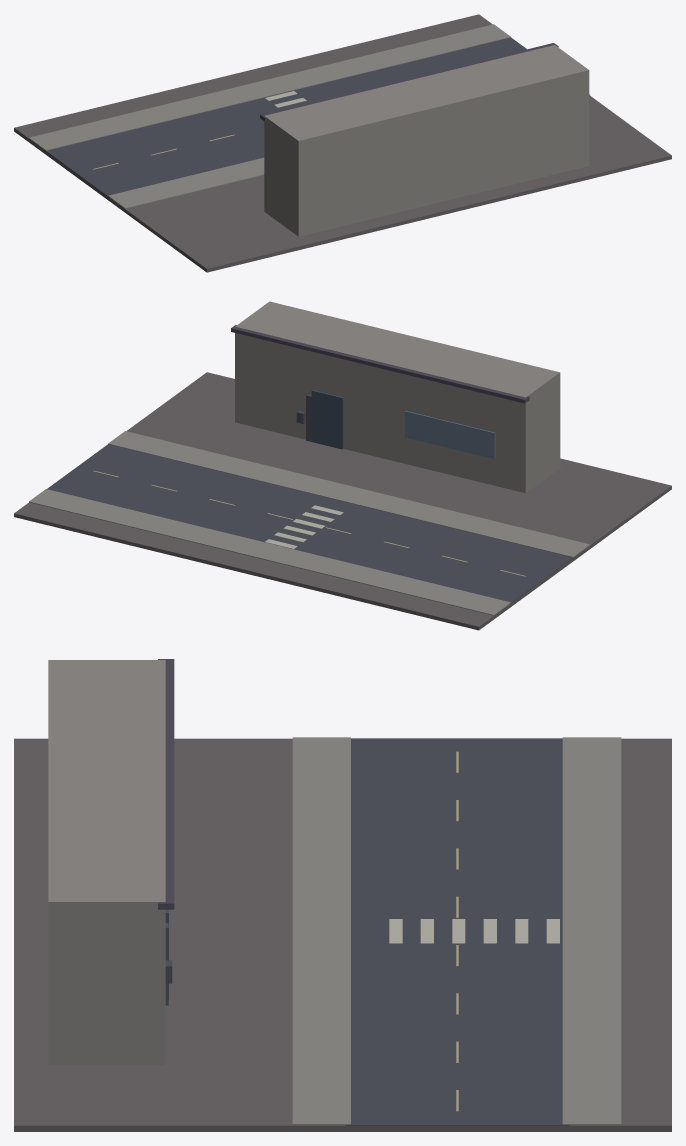
Rendered from tiendaDarsExterior.obj.
3 views of the same model, one above another, from view 1: azimuth 30°, elevation 25°; view 2: azimuth 150°, elevation 25°; view 3: azimuth 270°, elevation 25° (orthographic). The views are drawn at different scales.
Parts seen in each view (by area): view 1: Fachada_TIENDA_DEL_BARRIO, Suelo_continuo, Asfalto, Banqueta, Alero, Pintura_vial; view 2: Fachada_TIENDA_DEL_BARRIO, Suelo_continuo, Asfalto, Banqueta, Cristal_de_local, Alero, Acceso_de_personal, Pintura_vial; view 3: Suelo_continuo, Asfalto, Fachada_TIENDA_DEL_BARRIO, Banqueta, Pintura_vial, Alero.
Boxes of the visible parts, x1,y1,x2,y2 form: Fachada_TIENDA_DEL_BARRIO: (264, 45, 589, 236); Suelo_continuo: (14, 14, 671, 272); Asfalto: (45, 37, 526, 196); Banqueta: (29, 24, 590, 208); Alero: (260, 43, 558, 121); Pintura_vial: (93, 91, 306, 169); Fachada_TIENDA_DEL_BARRIO: (235, 301, 560, 493); Suelo_continuo: (14, 372, 671, 630); Asfalto: (47, 444, 573, 604); Banqueta: (29, 431, 590, 615); Cristal_de_local: (404, 410, 495, 459); Alero: (231, 325, 529, 403); Acceso_de_personal: (311, 390, 343, 449); Pintura_vial: (93, 470, 525, 576); Suelo_continuo: (14, 738, 671, 1131); Asfalto: (346, 738, 568, 1125); Fachada_TIENDA_DEL_BARRIO: (48, 660, 165, 1065); Banqueta: (292, 737, 621, 1125); Pintura_vial: (389, 751, 559, 1111); Alero: (158, 659, 174, 909).
Size of the model in its own units: 32 by 6.54 by 23.
